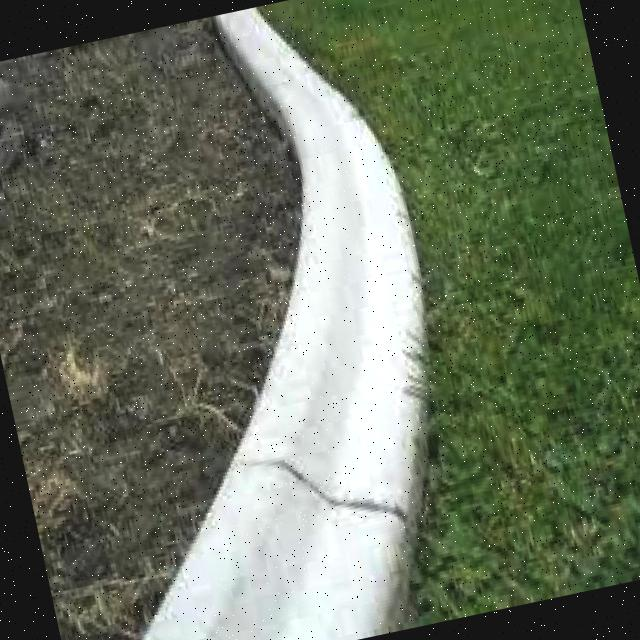curb: (60, 338, 494, 640), (207, 1, 452, 394)
